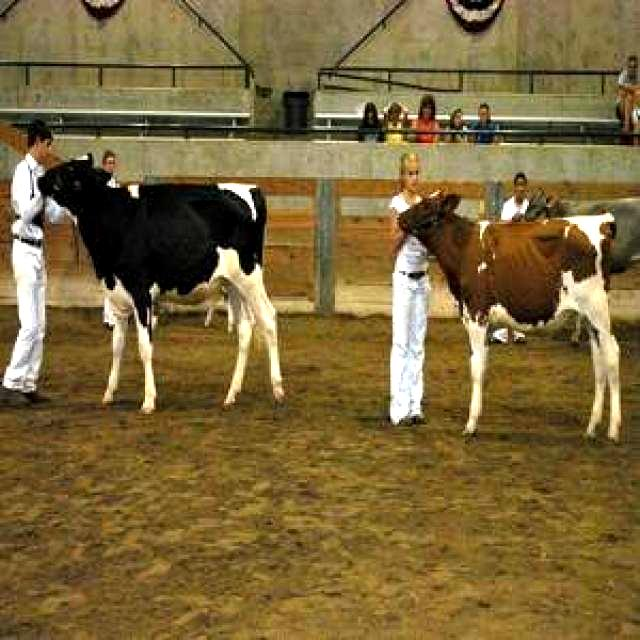COW: (40, 161, 282, 413), (399, 194, 621, 441)
